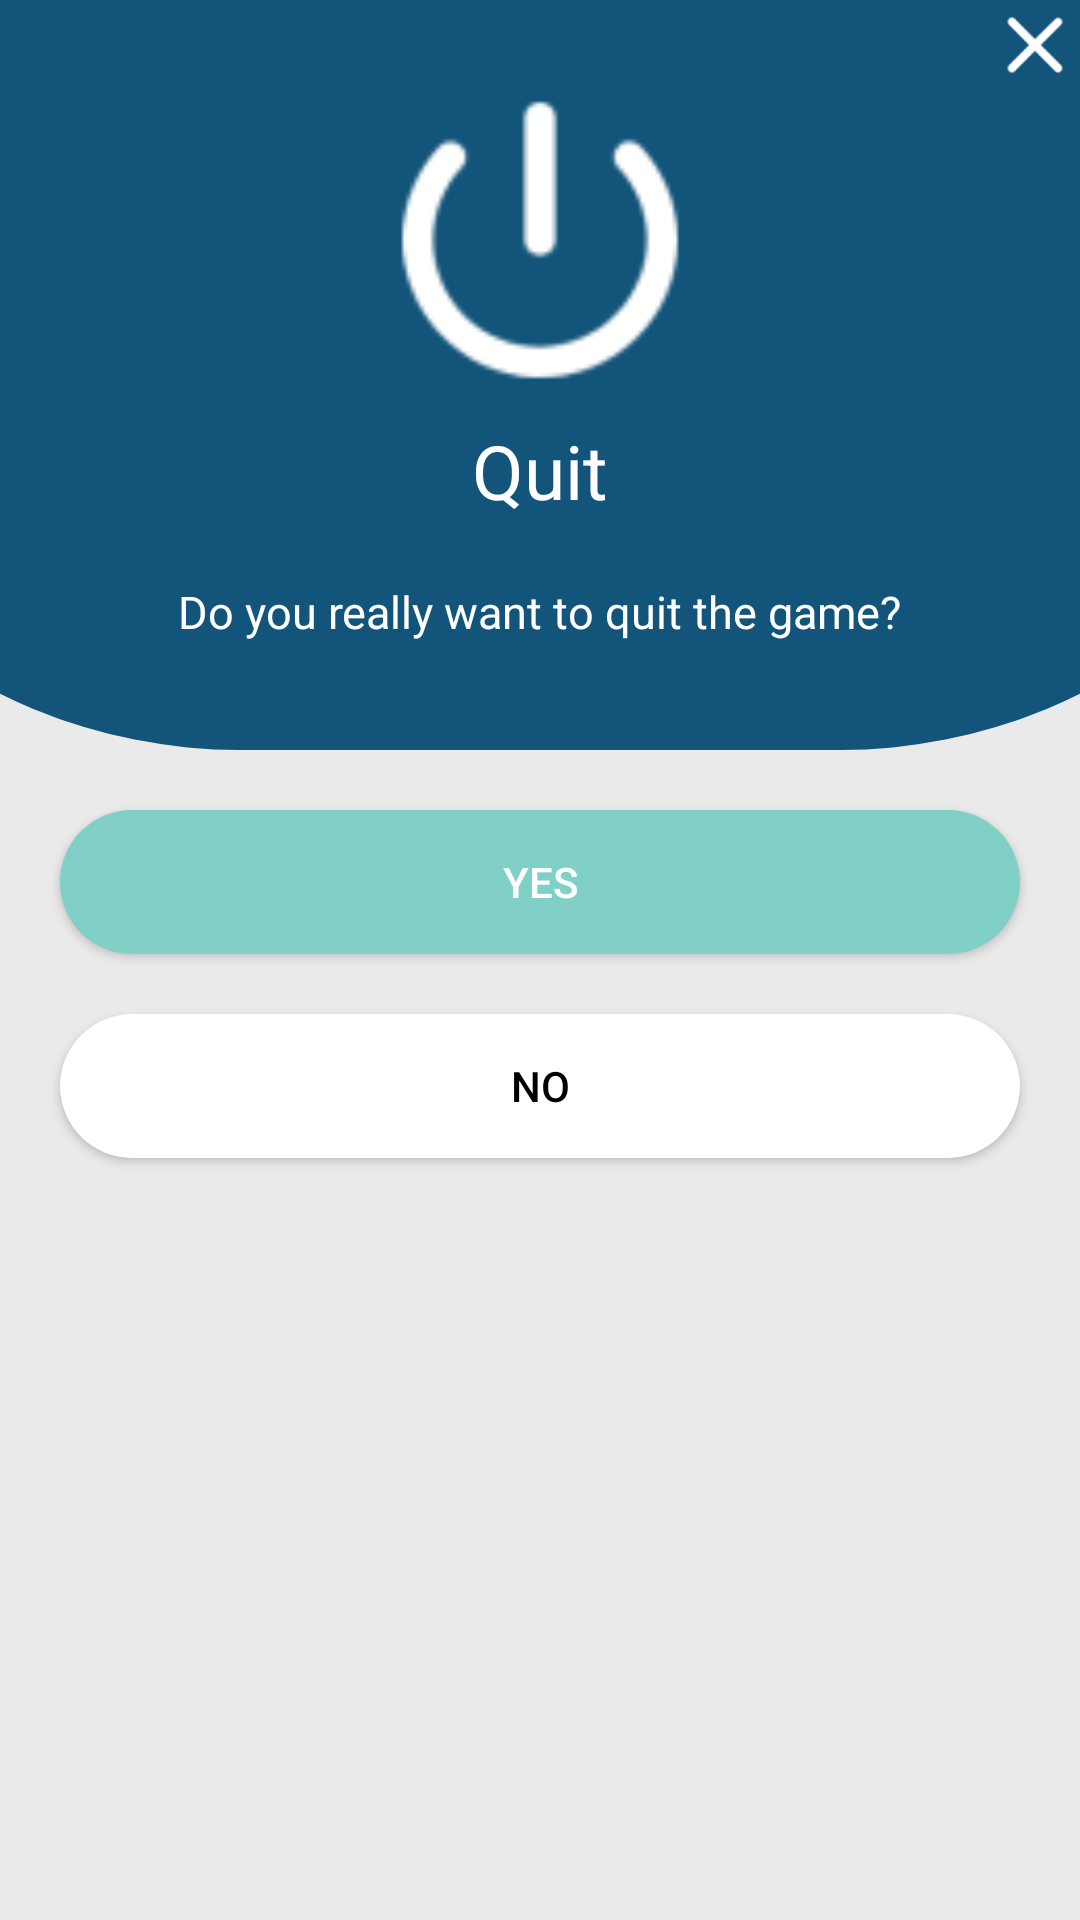

Locate icon controls on the screen. Image size 1080x1920, boxes as box=[x1, y1, x2, y2].
close: box=[1007, 17, 1063, 73]
power: box=[401, 101, 679, 379]
